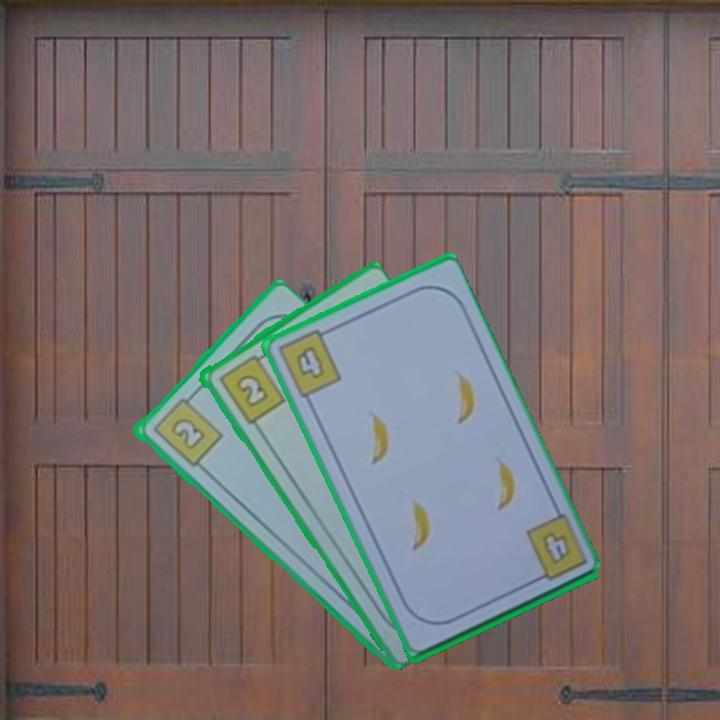2b: (148, 389, 225, 470), (214, 349, 288, 427)
4b: (274, 324, 344, 401), (538, 527, 573, 567)
